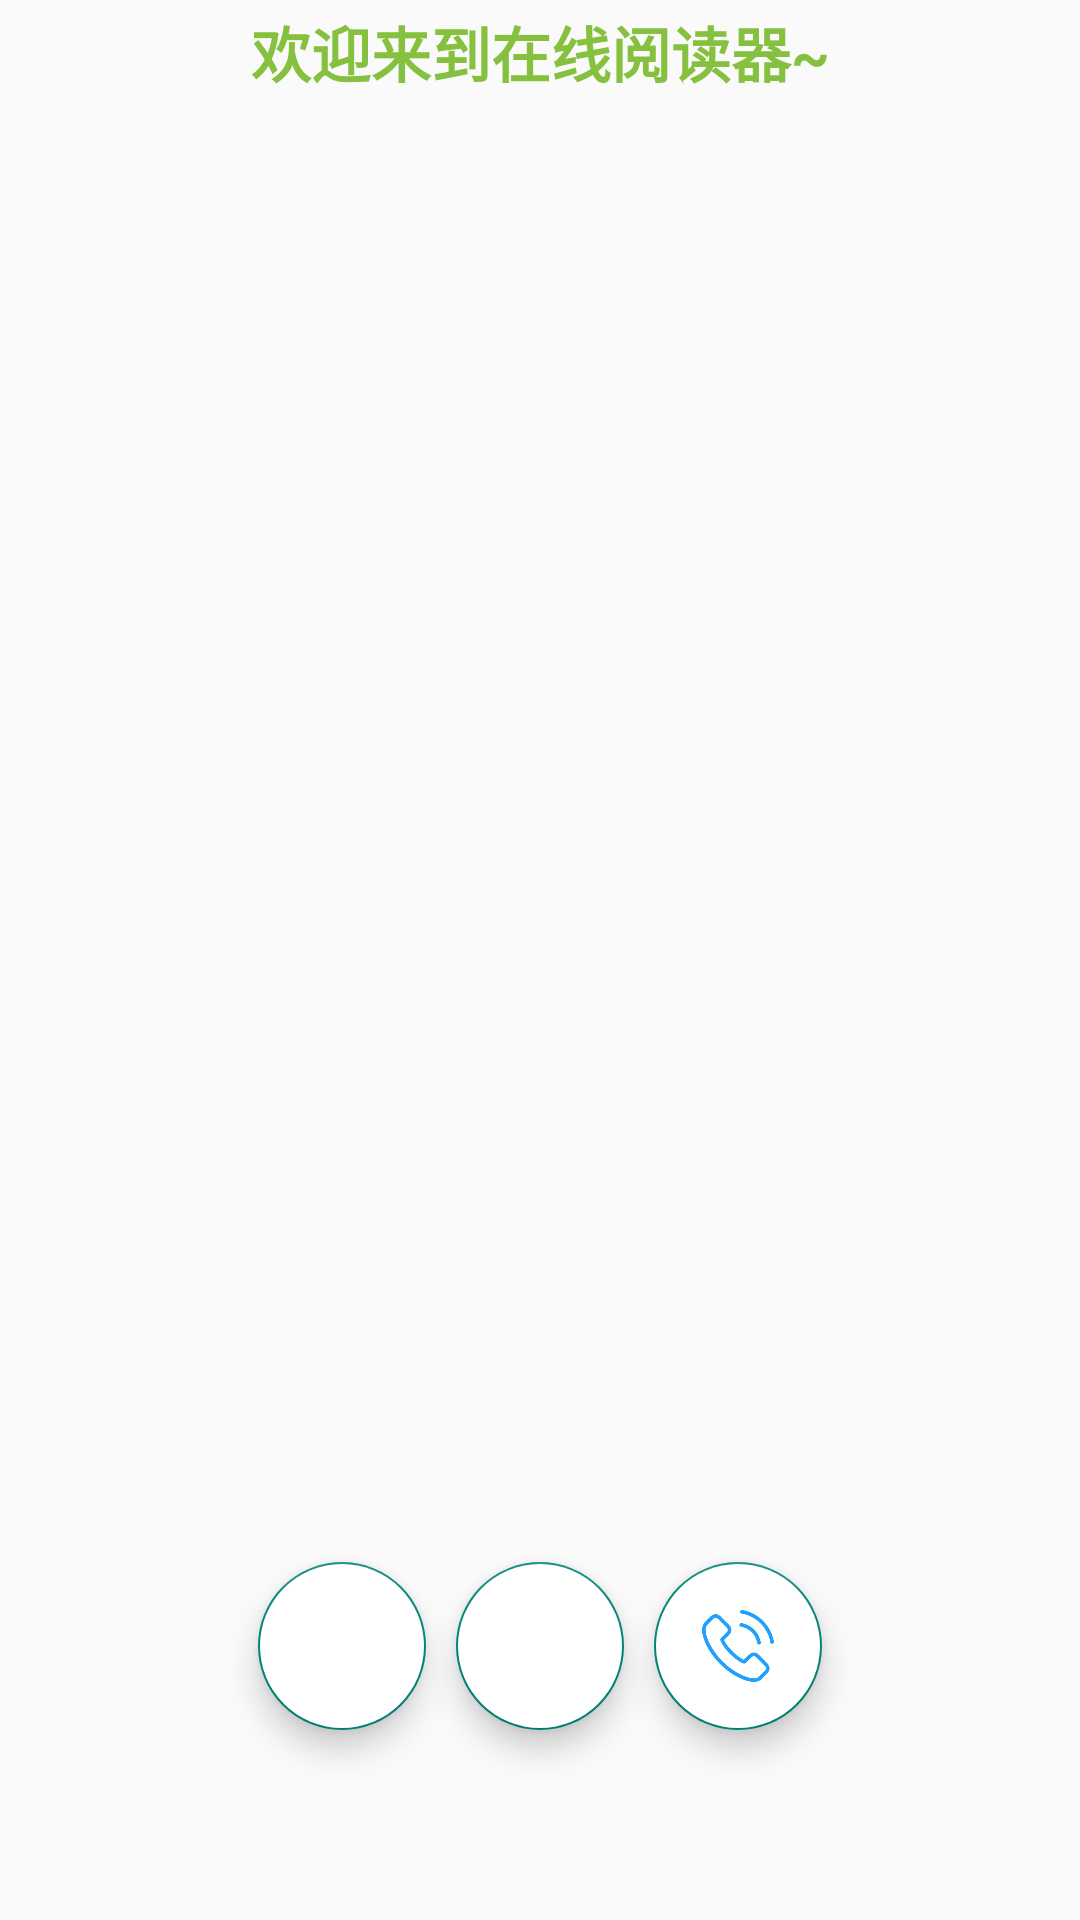

Point at icon controls on the screen. Image size 1080 x 1920, points as point (x, y).
telephone: point (738, 1646)
